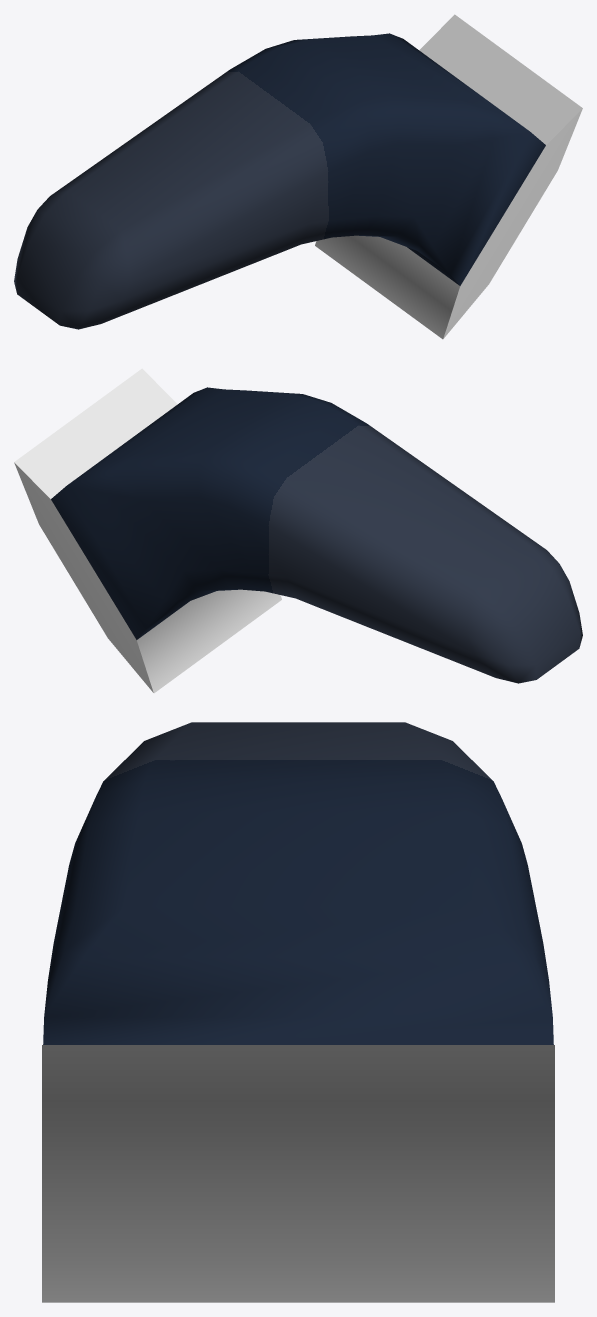
Rendered from HairTrimmer.fbx.
The picture shows the model from 3 angles, top to bottom: view 1: azimuth 30°, elevation 25°; view 2: azimuth 150°, elevation 25°; view 3: azimuth 270°, elevation 25°; orthographic projection. The views are drawn at different scales.
Visible parts, largest first — view 1: Trimmer; view 2: Trimmer; view 3: Trimmer.
Part boxes in pixels (left/top/right/bottom): Trimmer: left=14, top=14, right=582, bottom=339; Trimmer: left=14, top=368, right=582, bottom=693; Trimmer: left=42, top=722, right=554, bottom=1302.
Size of the model in its own units: 19.37 by 8.97 by 8.96.
